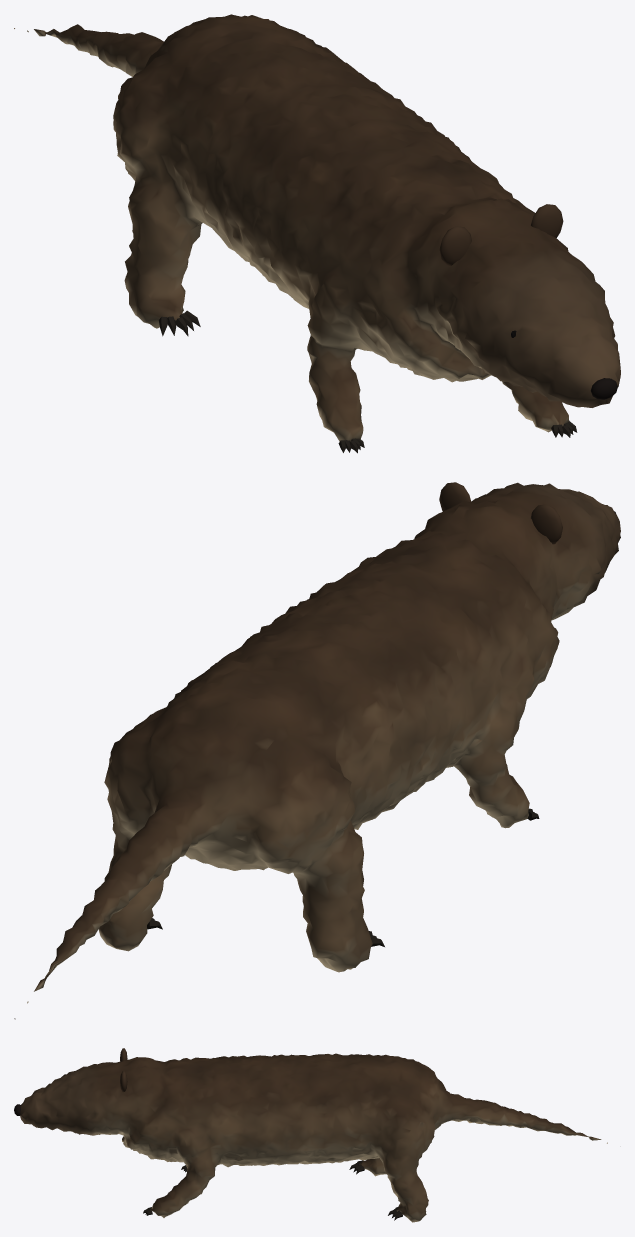
The model's file is Repenomamus.fbx.
3 views of the same model, one above another, from view 1: azimuth 30°, elevation 25°; view 2: azimuth 150°, elevation 25°; view 3: azimuth 270°, elevation 25° (orthographic). The views are drawn at different scales.
Parts seen in each view (by area): view 1: Repenomamus; view 2: Repenomamus; view 3: Repenomamus.
Part boxes in pixels (x1,y1,x2,y2): Repenomamus: [14, 14, 620, 453]; Repenomamus: [14, 482, 620, 1019]; Repenomamus: [14, 1048, 607, 1222].
Size of the model in its own units: 0.3588 by 0.3986 by 1.59.
